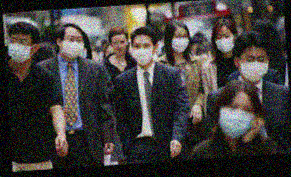with_mask: (219, 99, 257, 139), (238, 53, 270, 82), (6, 33, 31, 62), (59, 32, 86, 58), (131, 39, 155, 64), (214, 31, 235, 53), (171, 30, 190, 53)
without_mask: (111, 37, 127, 54)
